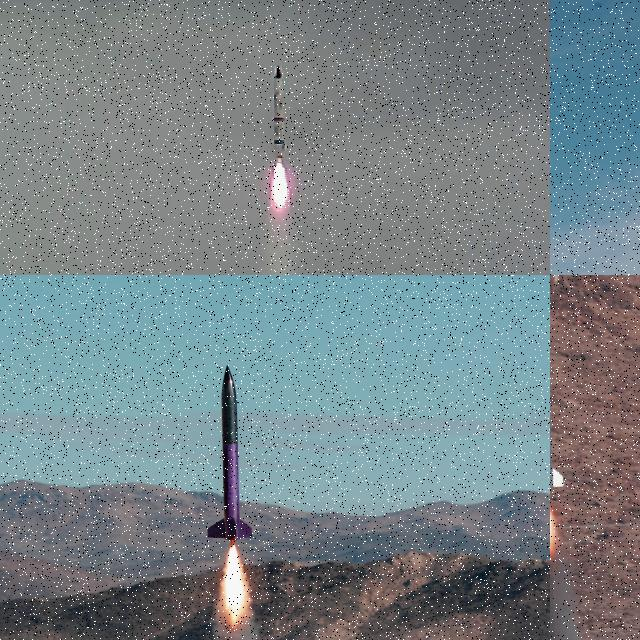Rocket: (205, 364, 254, 542), (550, 323, 564, 490), (272, 64, 288, 163)
